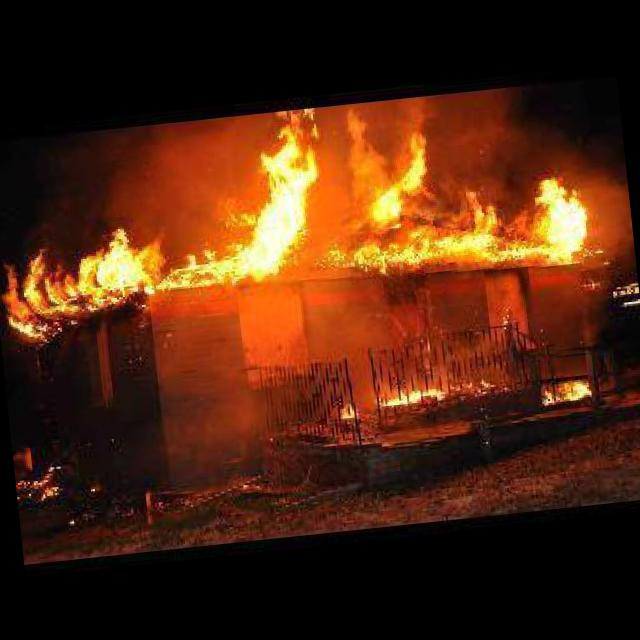Fire: (0, 76, 609, 340), (366, 360, 495, 410), (521, 369, 598, 412), (316, 392, 359, 424)
